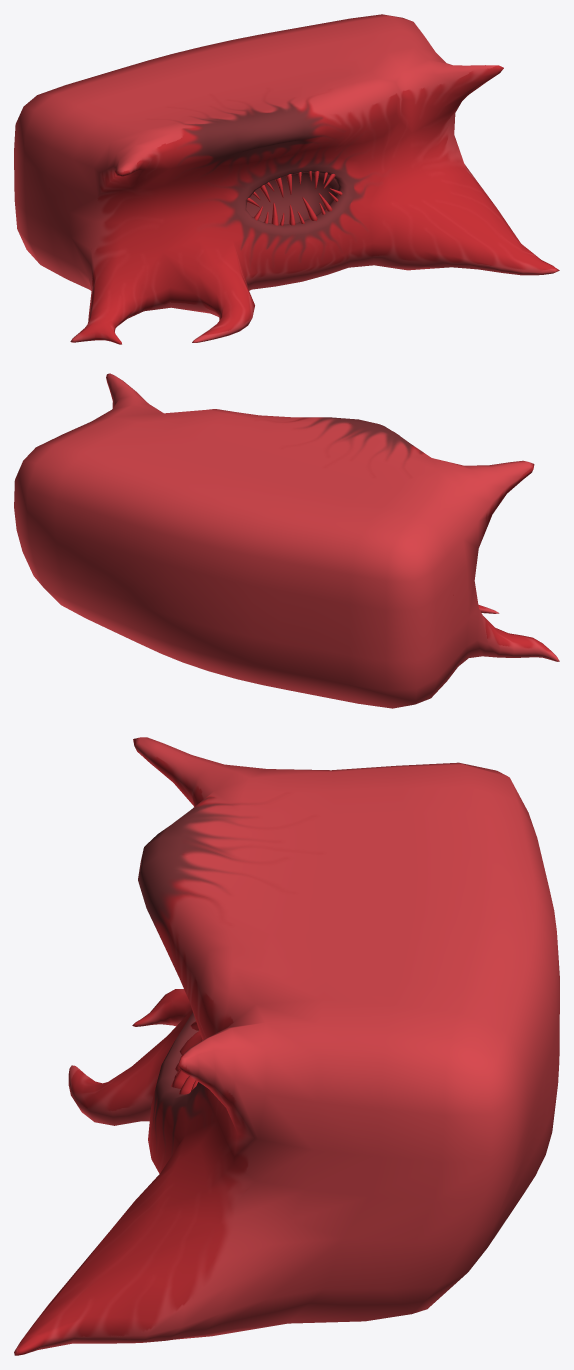
Rendered from altar.fbx.
3 renders of one model, top to bottom at view 1: azimuth 30°, elevation 25°; view 2: azimuth 150°, elevation 25°; view 3: azimuth 270°, elevation 25°, orthographic. The views are drawn at different scales.
Parts seen in each view (by area): view 1: Cube.002; view 2: Cube.002; view 3: Cube.002.
Boxes of the visible parts, x1,y1,x2,y2 form: Cube.002: (14,14,559,344); Cube.002: (14,373,559,708); Cube.002: (14,737,559,1355).
Size of the model in its own units: 6.34 by 4.03 by 2.54.
Materials: 1 (1 with a texture image).
